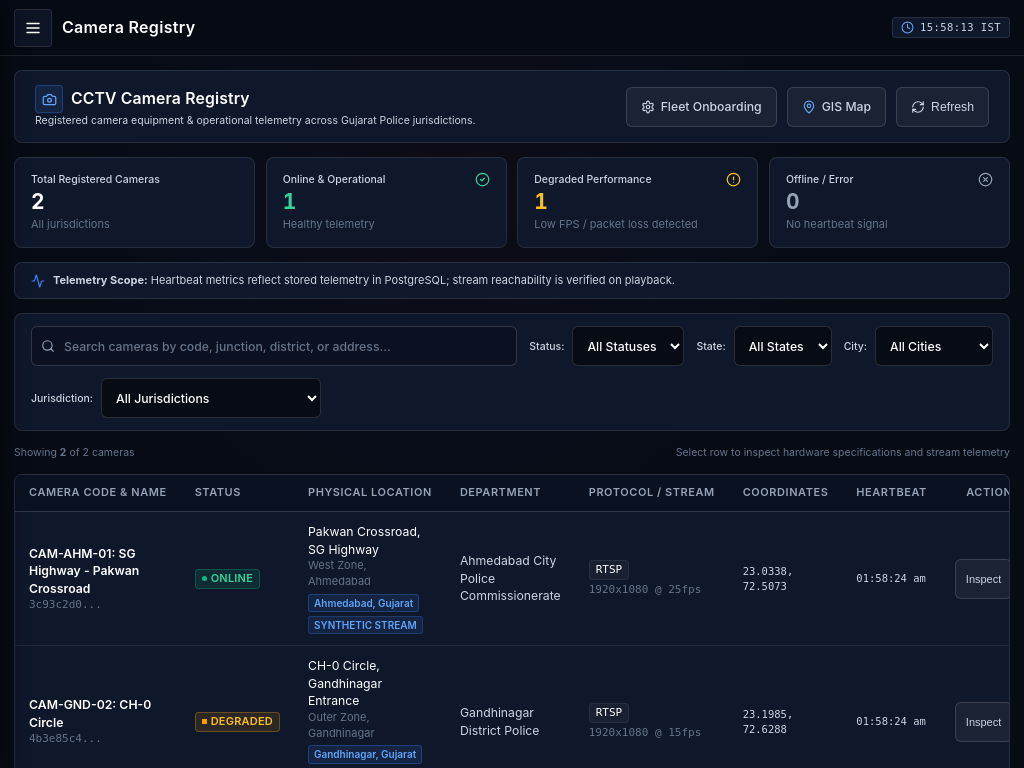
Test: Camera Registry UI Component (Phase 4B) › filters cameras by operational status dropdown
Expected: the text "CAM-AHM-01: SG Highway - Pakwan Crossroad" is shown, [29, 546, 139, 596]
Select "Degraded" in the dropdown labelled "Status:": (628,346) [572, 326, 684, 366]
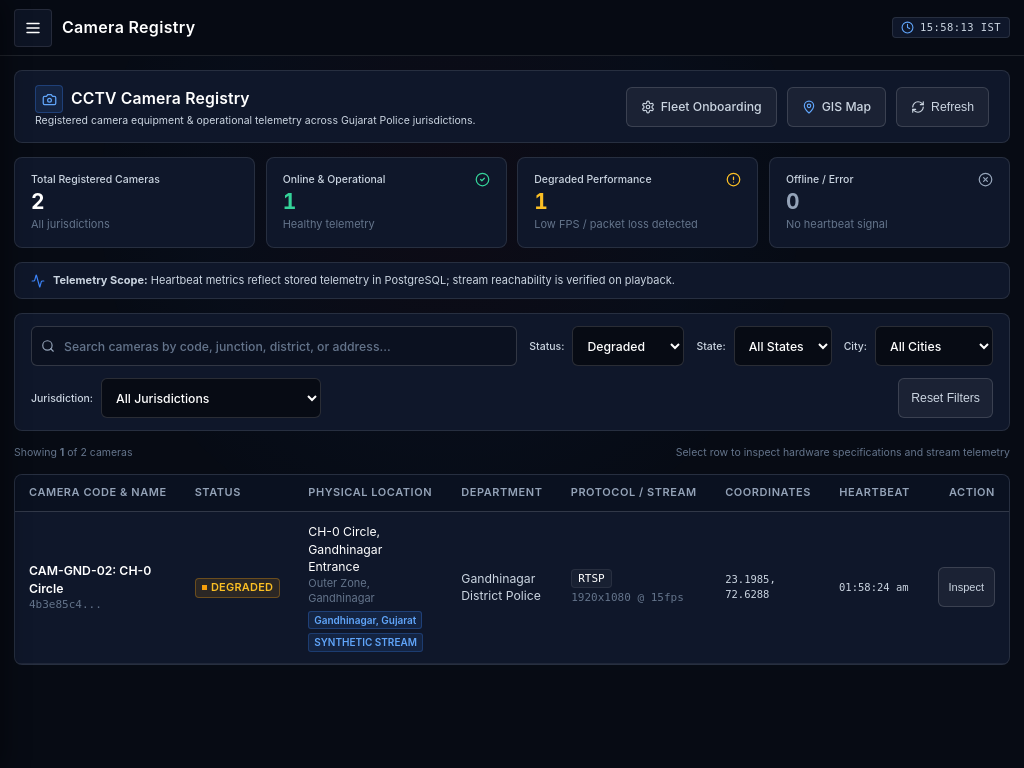
Expected: the text "CAM-GND-02: CH-0 Circle" is shown, [29, 562, 167, 597]
Result: the text "CAM-AHM-01: SG Highway - Pakwan Crossroad" is gone
